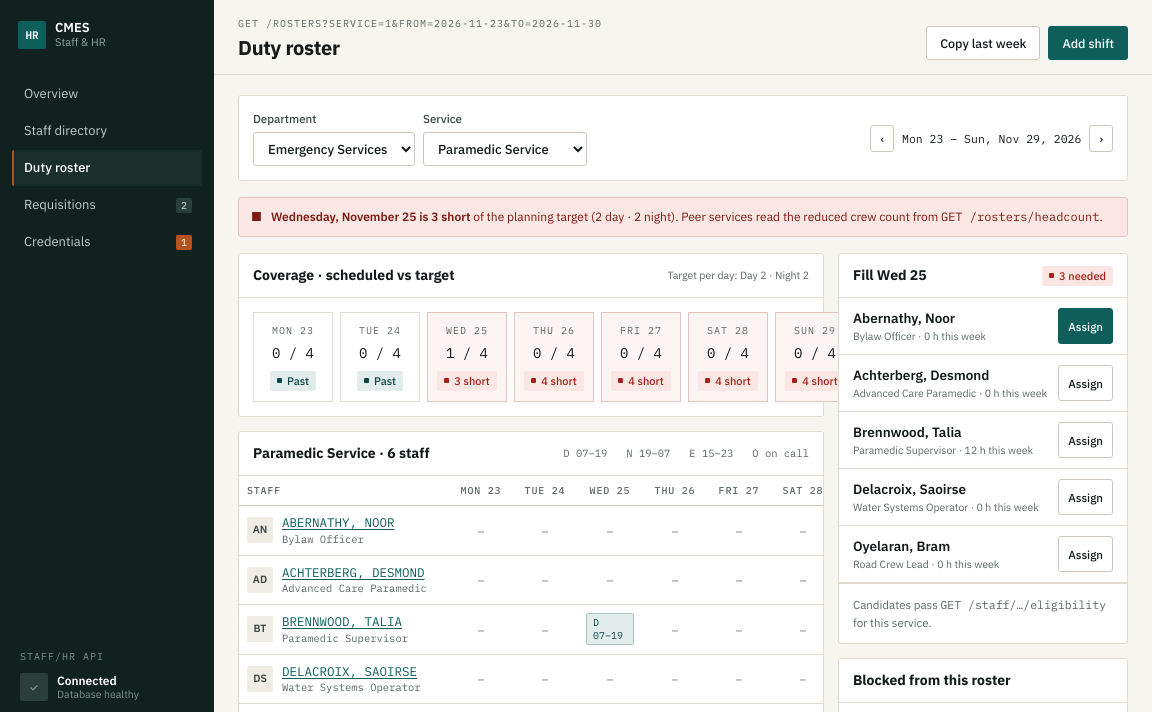
Test case: CMES Staff & HR frontend › shows this week's roster with eligibility and adds a shift after checking it
The width and height of the screenshot is (1152, 712).
Check: the button "BRENNWOOD, TALIA" is shown, box [282,612,402,631]
Check: the button titled "Day 07:00–19:00 · Scheduled · click to remove" is shown, box [586,613,634,645]
Click the 1st button "Assign". click: (1086, 326)
box: [1058,308,1113,344]
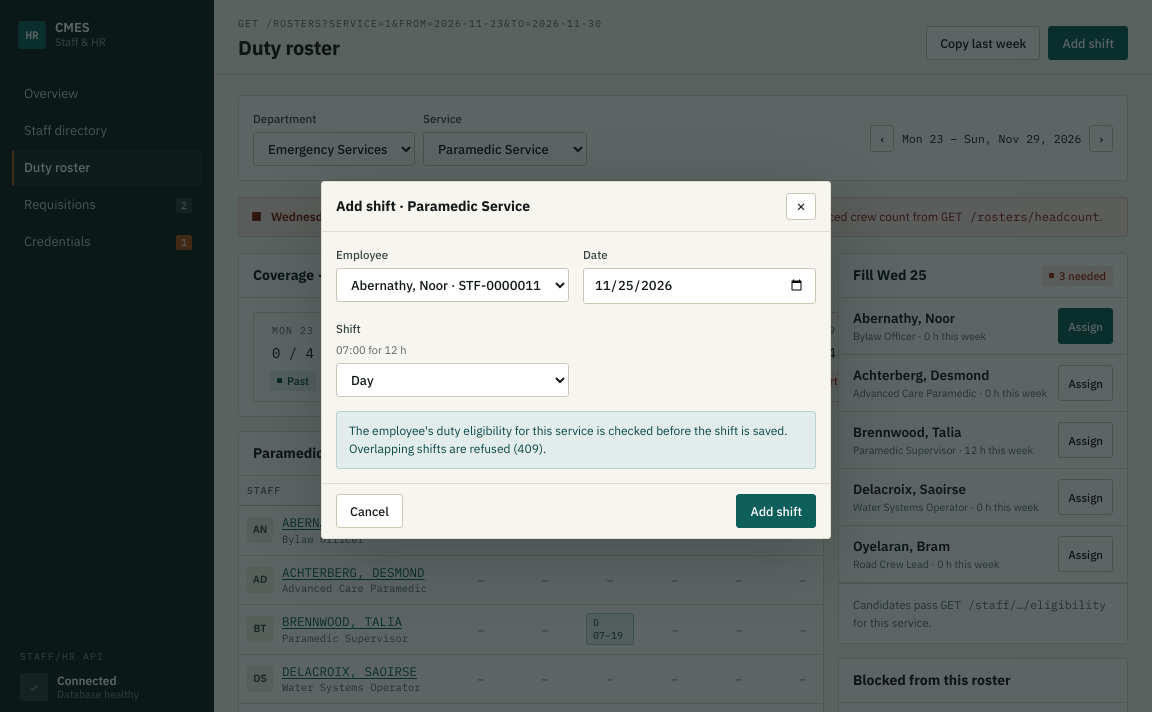
Select "Brennwood, Talia · STF-0000001" in the dropdown labelled "Employee". click: (452, 285)
box: [336,268,569,302]
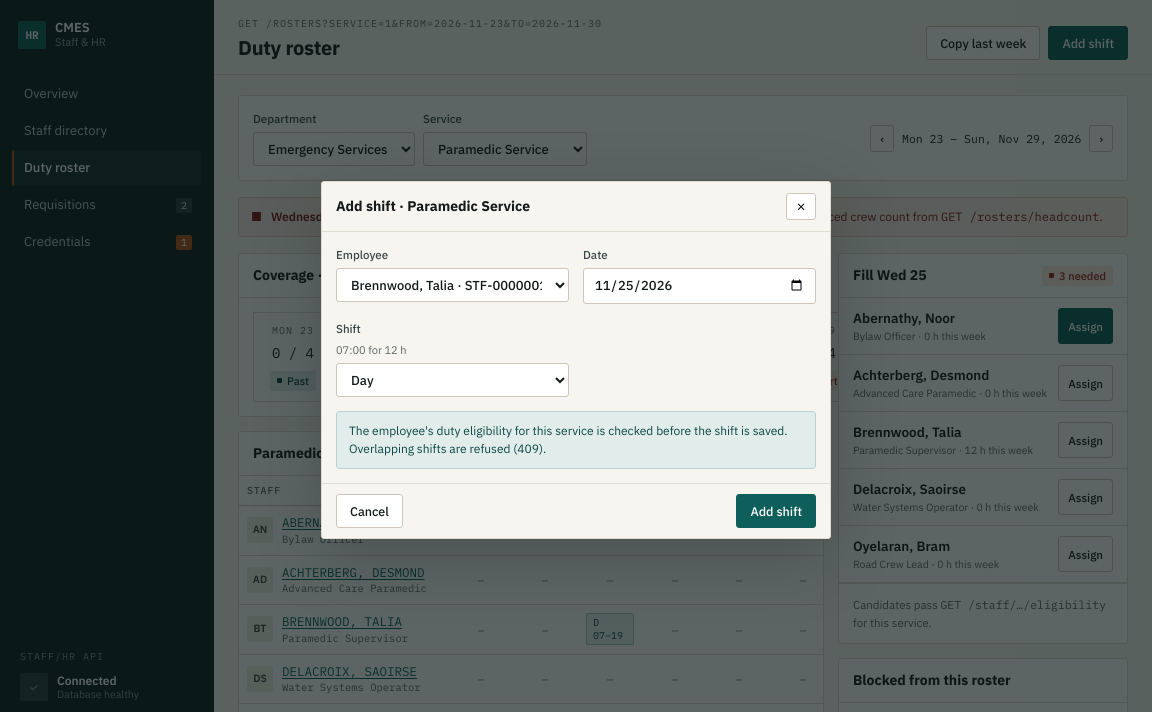
Click the button "Add shift". click: (776, 511)
box: [736,494,816,528]
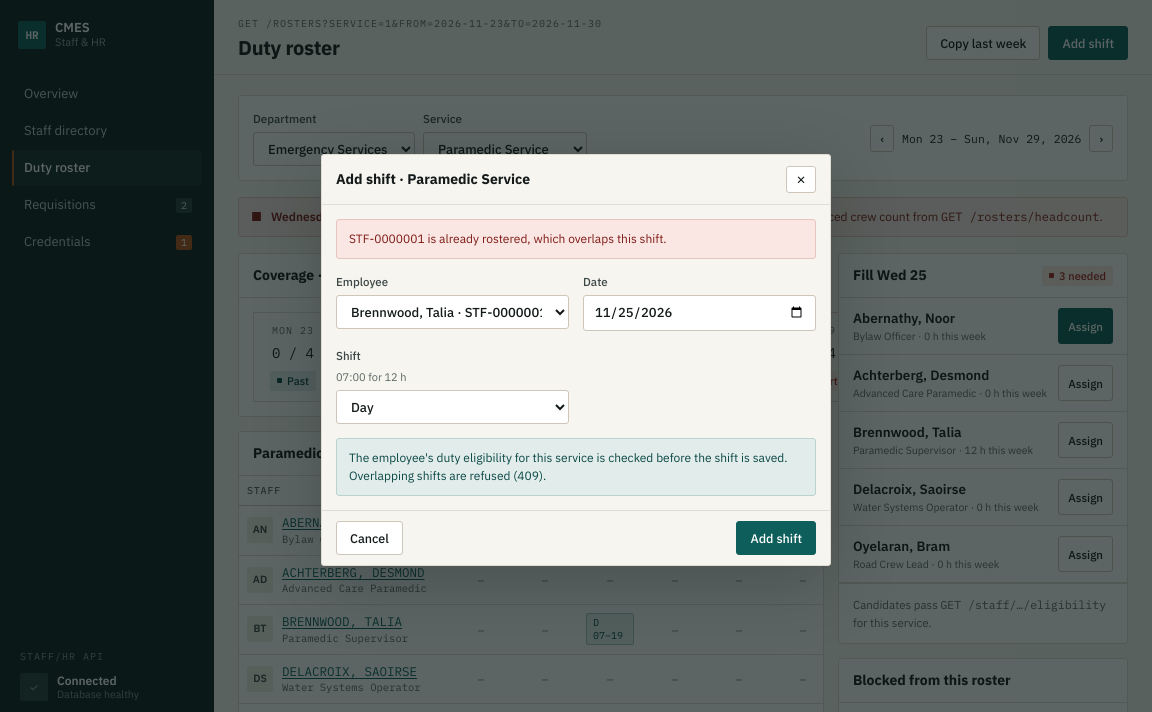
Check: the text "STF-0000001 is already rostered, which overlaps this shift." is shown, box [349,230,667,248]
Select "Achterberg, Desmond · STF-0000002" in the dropdown labelled "Employee". click: (452, 312)
box: [336,295,569,329]
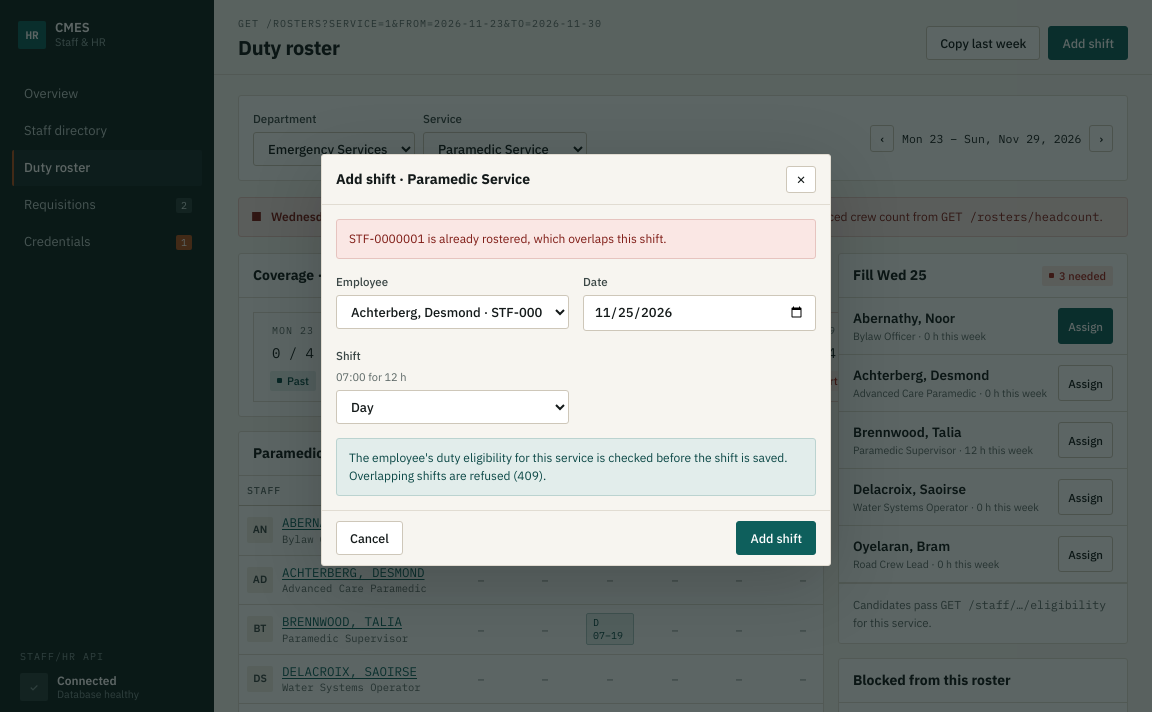
Select "Night" in the dropdown named "Shift type". click: (452, 407)
box: [336,390,569,424]
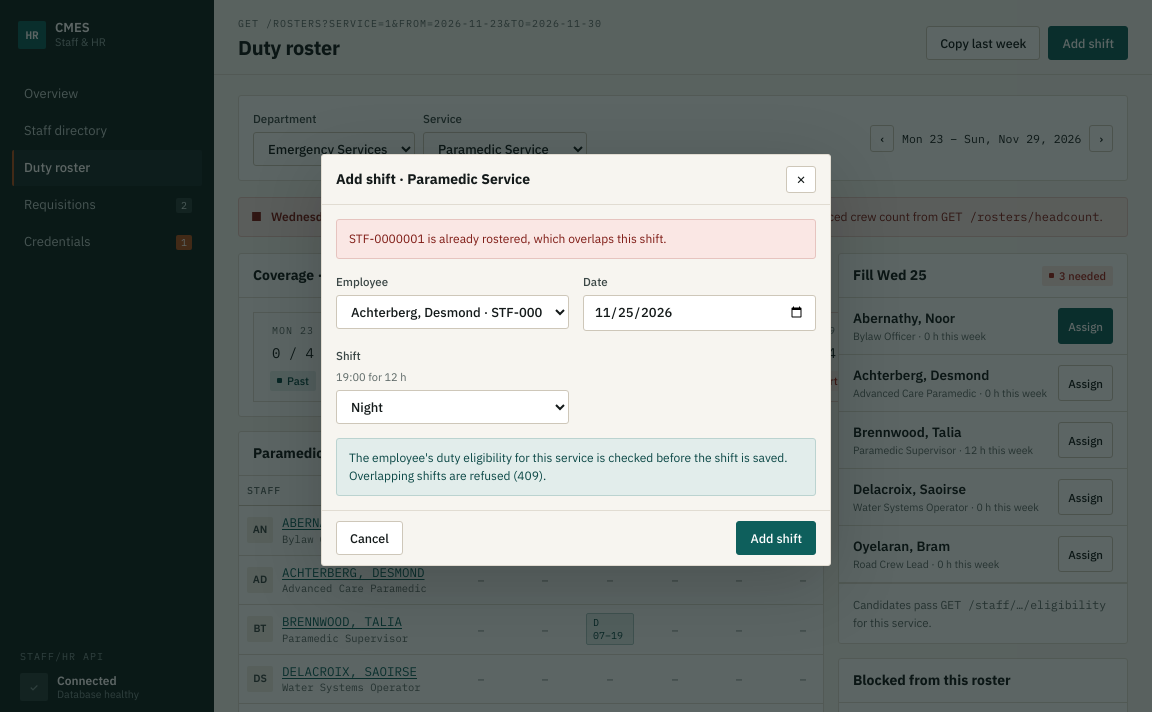
Click the button "Add shift". click: (776, 538)
box: [736,521,816,555]
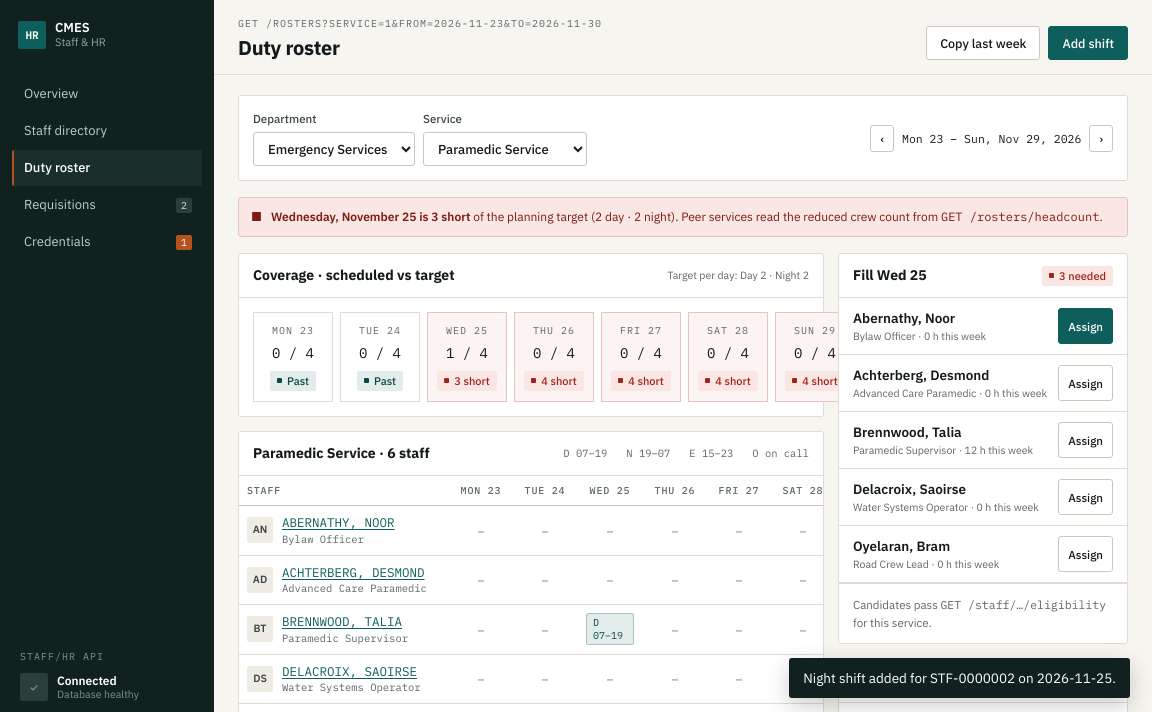
Check: the text "Night shift added for STF-0000002 on 2026-11-25." is shown, box [789,658,1130,698]
